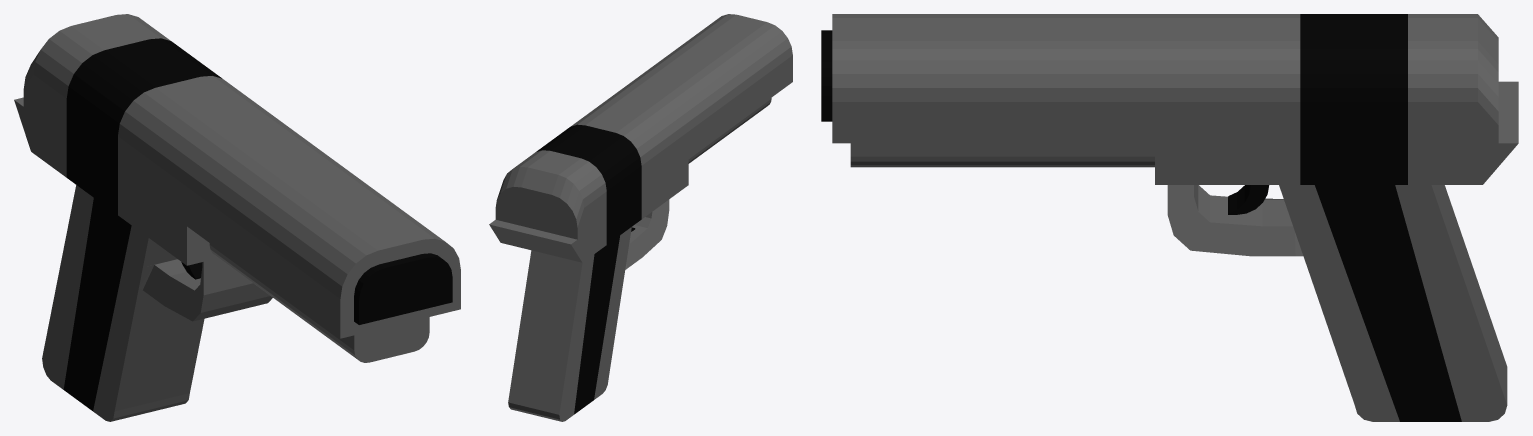
Rendered from Gun.fbx.
The picture shows the model from 3 angles, left to right: view 1: azimuth 30°, elevation 25°; view 2: azimuth 150°, elevation 25°; view 3: azimuth 270°, elevation 25°; orthographic projection. The views are drawn at different scales.
Parts seen in each view (by area): view 1: Gun, GunCross; view 2: Gun, GunCross; view 3: Gun, GunCross.
Part boxes in pixels (box(x1,y1,x2,y2)): Gun: box(14, 14, 460, 362); GunCross: box(42, 185, 272, 421); Gun: box(489, 14, 792, 262); GunCross: box(508, 199, 669, 421); Gun: box(821, 14, 1518, 184); GunCross: box(1167, 185, 1507, 421).
Bounding box in the file's own units: 8 × 22.51 × 38.13.
2 materials, 2 textured.
